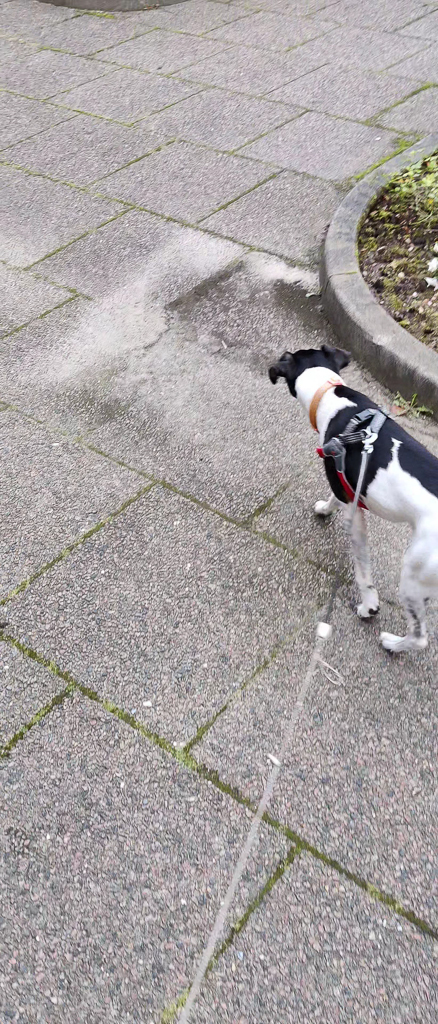Dog: (258, 332, 438, 673)
